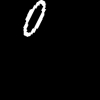chain: (24, 0, 44, 36)
